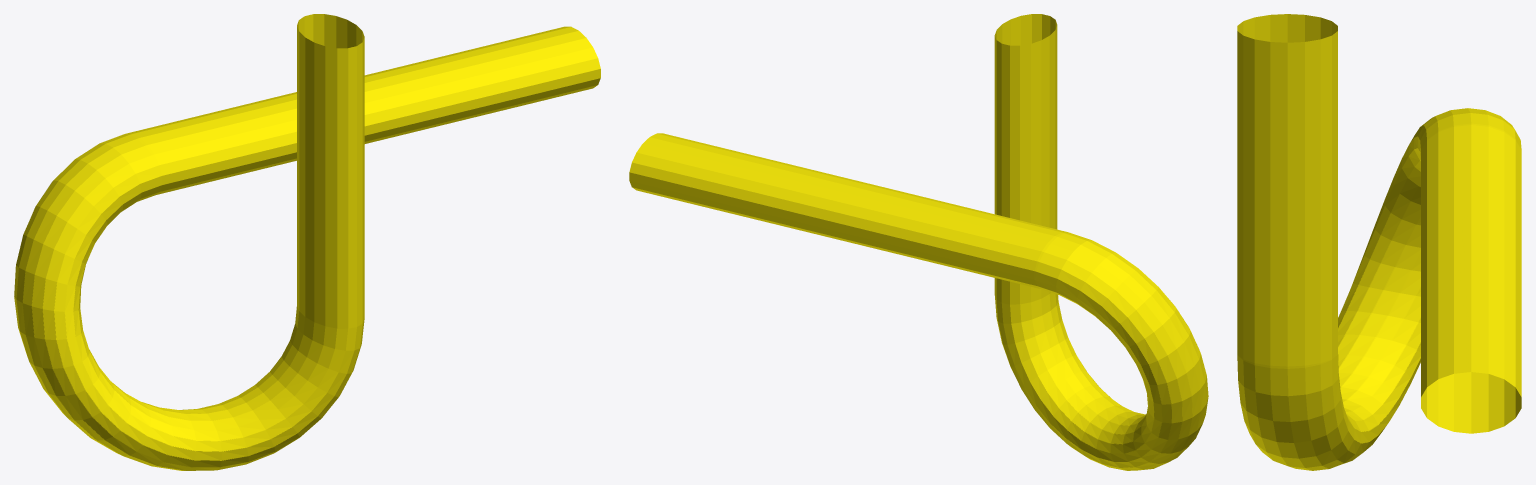
File: alpha_env-1.5.dae
The picture shows the model from 3 angles, left to right: view 1: azimuth 30°, elevation 25°; view 2: azimuth 150°, elevation 25°; view 3: azimuth 270°, elevation 25°; orthographic projection. The views are drawn at different scales.
Visible parts, largest first — view 1: instance_0; view 2: instance_0; view 3: instance_0.
Part boxes in pixels (x1=…): instance_0: x1=14, y1=14, x2=600, y2=470; instance_0: x1=629, y1=14, x2=1208, y2=470; instance_0: x1=1237, y1=14, x2=1521, y2=470.
Bounding box in the file's own units: 239 × 88.69 × 168.
